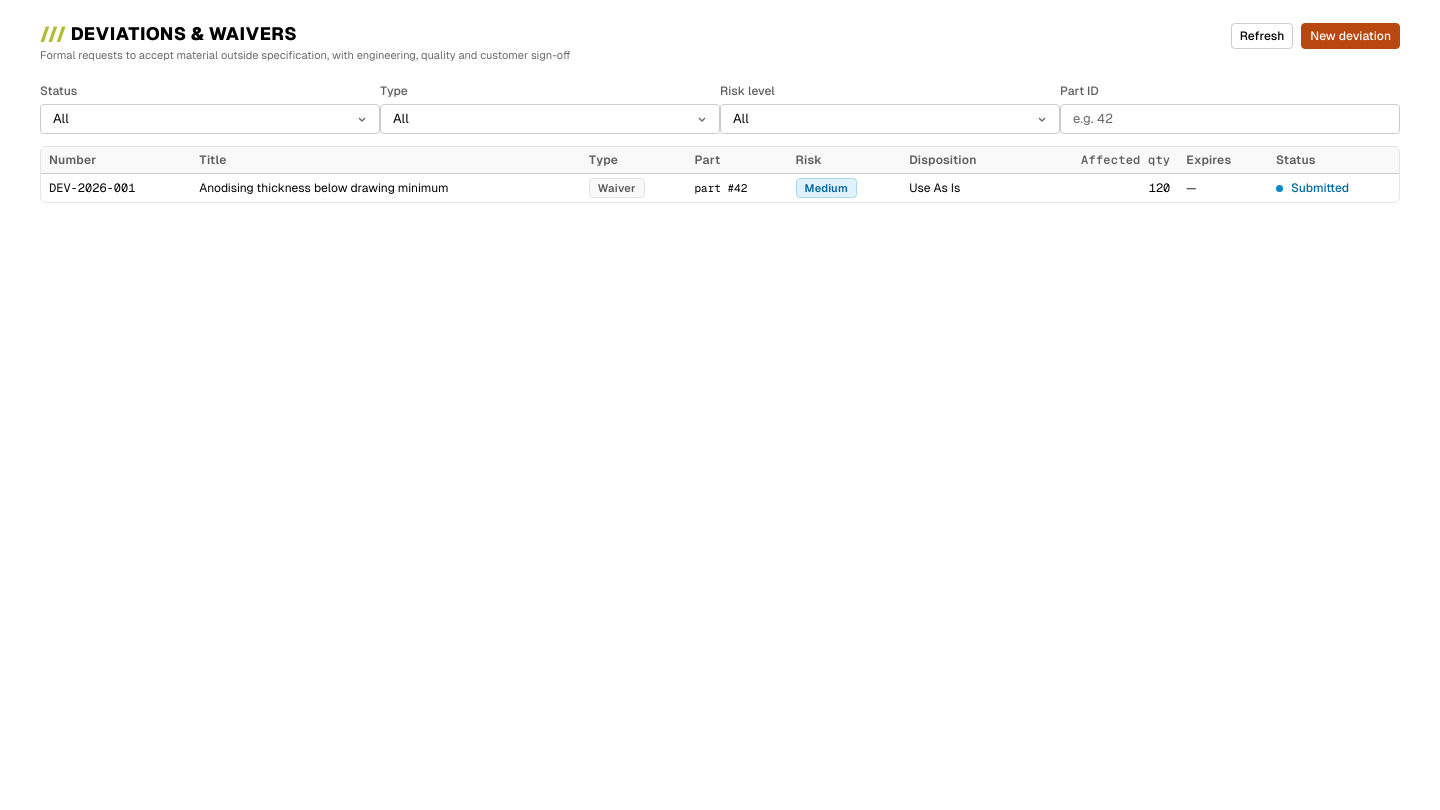
Test case: DeviationsScreen › opens the detail panel with the approvals the API actually returned
Click the text "DEV-2026-001": (92, 188) [49,181,135,195]
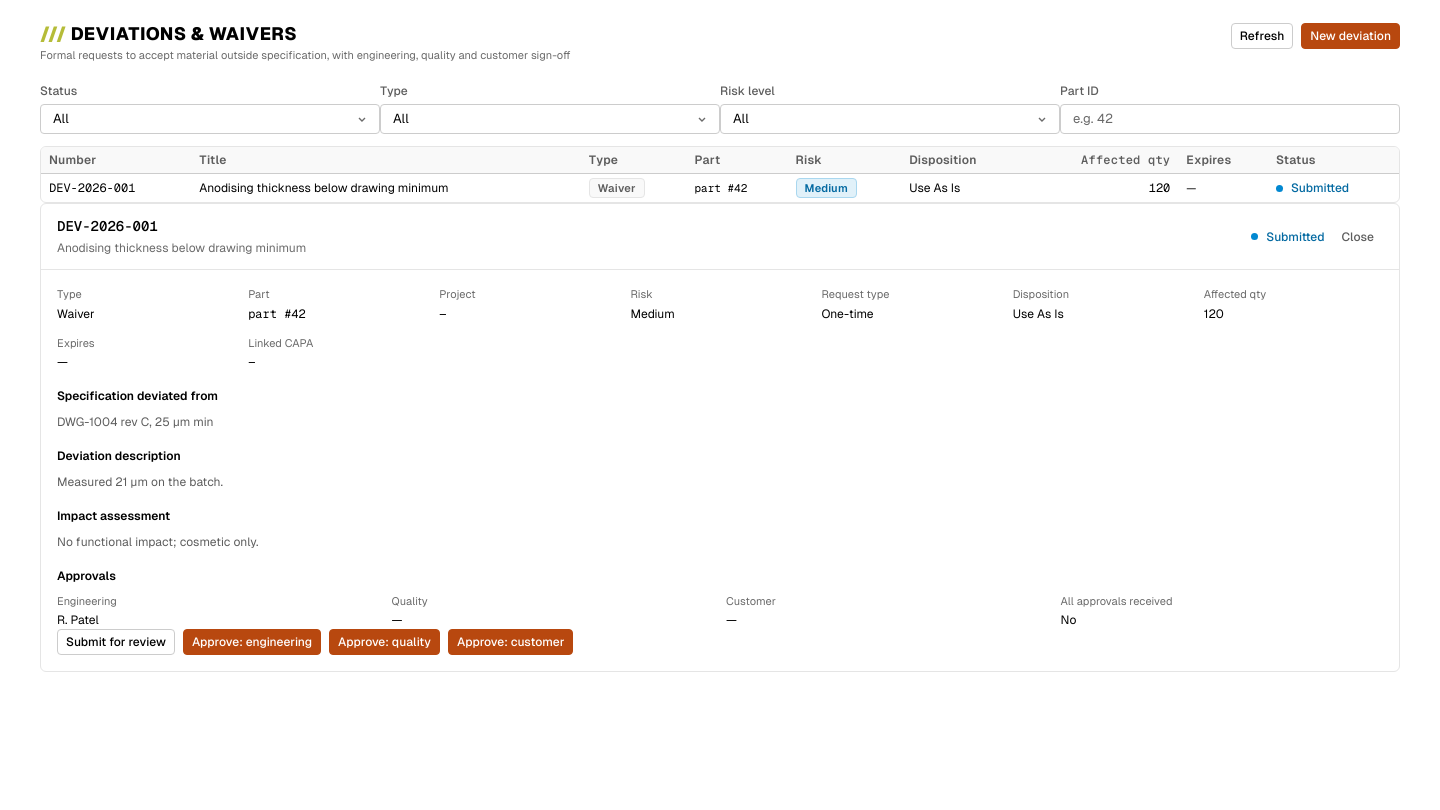
Check: the 1st text "—" is shown, box [1186,182,1196,194]
Check: the text "R. Patel" is shown, box [57,613,99,627]
Check: the text "DWG-1004 rev C, 25 µm min" is shown, box [57,415,214,429]
